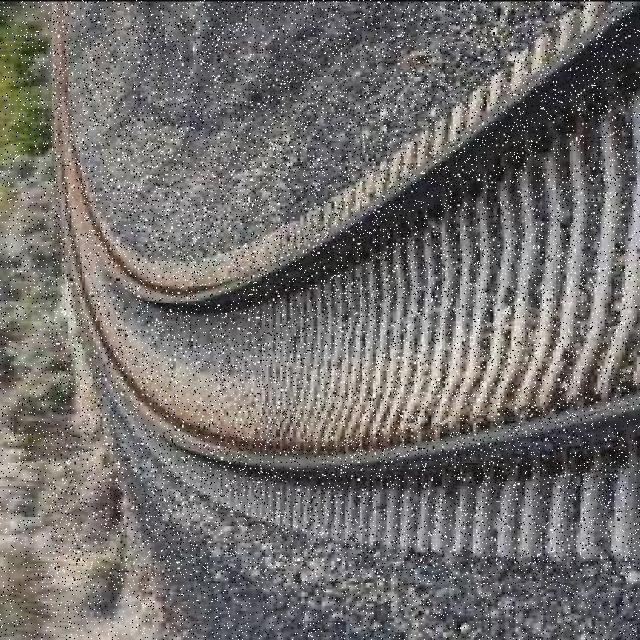rail: (52, 0, 630, 578)
